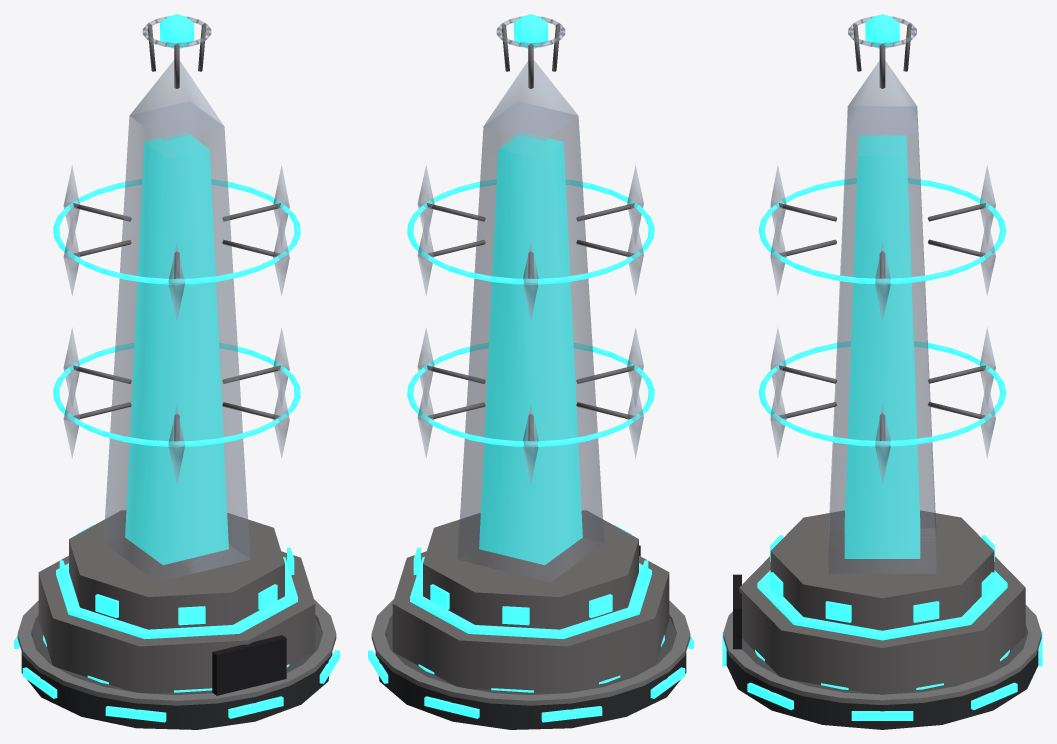
The model's file is Laser_Obelisk.glb.
3 views of the same model, side by side, from view 1: azimuth 30°, elevation 25°; view 2: azimuth 150°, elevation 25°; view 3: azimuth 270°, elevation 25° (orthographic).
Parts seen in each view (by area): view 1: Laser_Obelisk; view 2: Laser_Obelisk; view 3: Laser_Obelisk.
Boxes of the visible parts, <box> form: Laser_Obelisk: <box>14,14,339,729</box>; Laser_Obelisk: <box>368,14,693,729</box>; Laser_Obelisk: <box>722,14,1042,729</box>.
Bounding box in the file's own units: 3.58 × 8.01 × 3.58.
